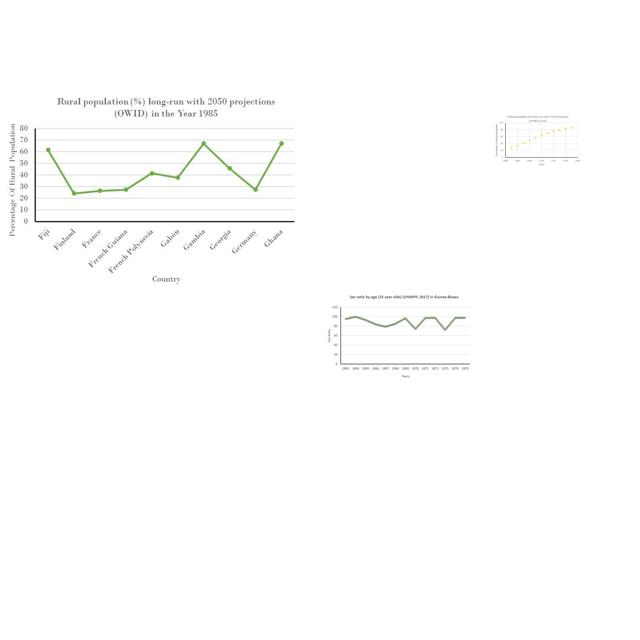Graph: (1, 91, 298, 288), (324, 293, 475, 380), (494, 114, 581, 166)
